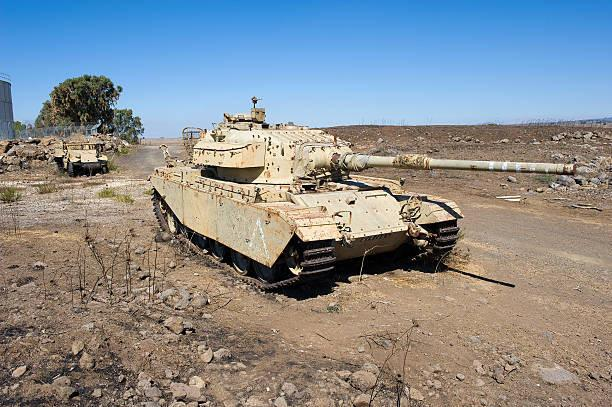tank: (148, 113, 577, 289)
